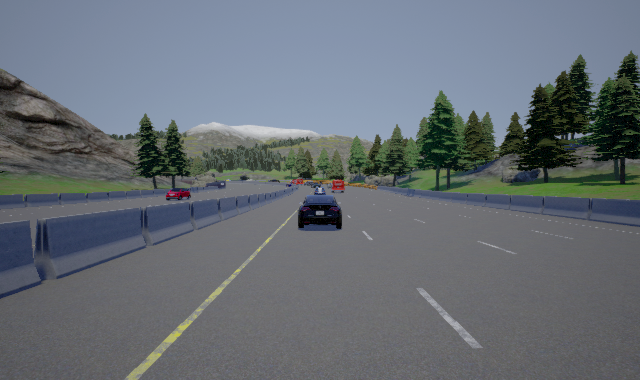bike: (311, 185, 330, 199)
vehicle: (298, 197, 344, 229), (164, 185, 191, 203), (330, 178, 347, 195)
